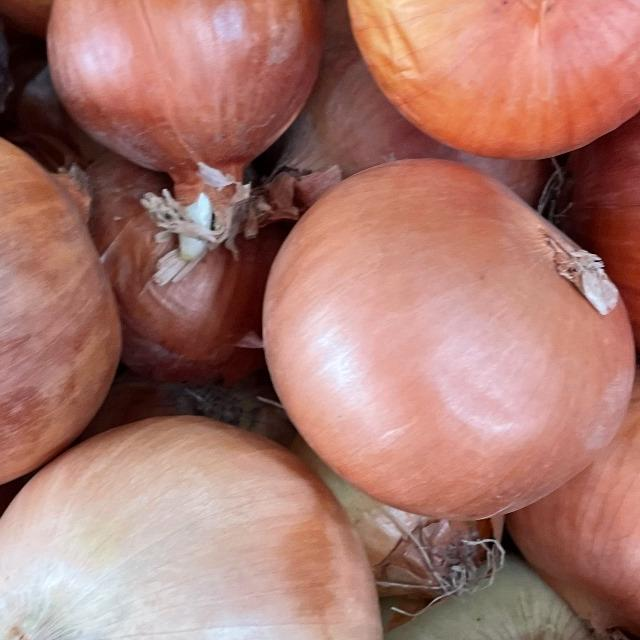onion: (242, 140, 640, 527), (0, 407, 390, 640), (10, 0, 352, 242), (320, 0, 640, 152)
